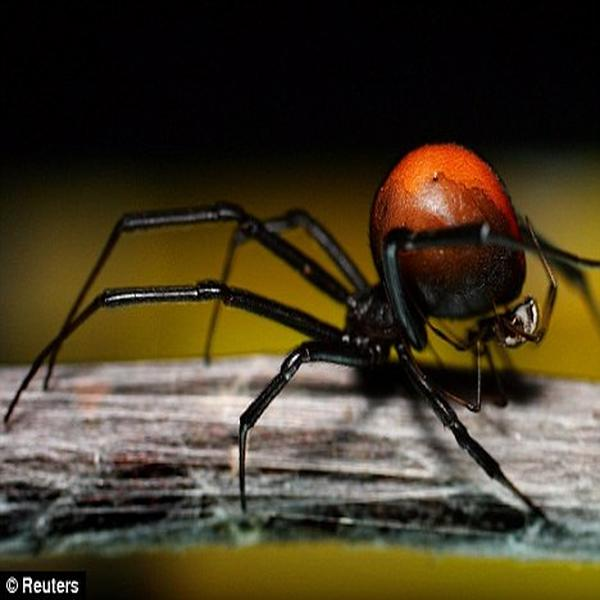Redback_Spider: (10, 144, 581, 517)
